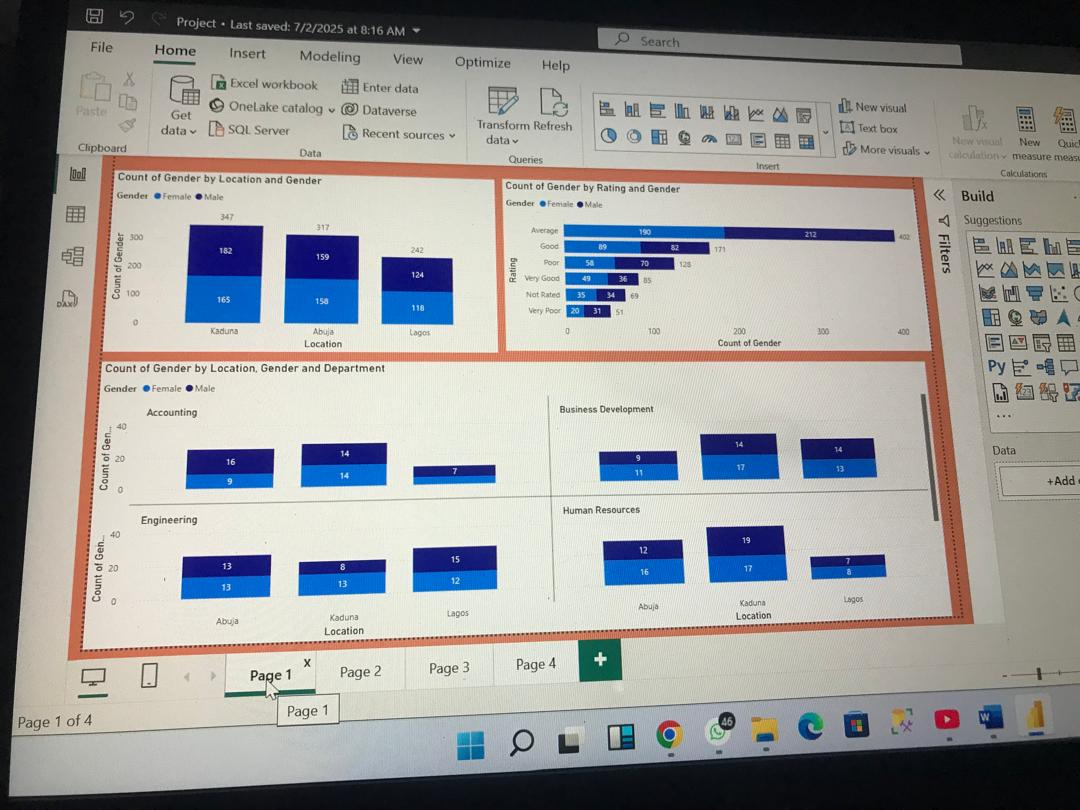

This screenshot's page, from the dashboard's own definition file:
{"tool":"powerbi","page":{"name":"Page 1","canvas":[1280,720],"ordinal":0},"visuals":[{"type":"columnChart","fields":{"Y":["CountNonNull(Palmoria Group emp-data.Gender)"],"Category":["Palmoria Group emp-data.Location"],"Series":["Palmoria Group emp-data.Gender"]},"box":[0,23.8,571.8,280],"z":1},{"type":"columnChart","fields":{"Y":["CountNonNull(Palmoria Group emp-data.Gender)"],"Category":["Palmoria Group emp-data.Location"],"Series":["Palmoria Group emp-data.Gender"],"Rows":["Palmoria Group emp-data.Department"]},"box":[0,319.7,1264.8,401.1],"z":2},{"type":"barChart","fields":{"Category":["Palmoria Group emp-data.Rating"],"Y":["CountNonNull(Palmoria Group emp-data.Gender)"],"Series":["Palmoria Group emp-data.Gender"]},"box":[584.8,22.1,695.2,278.6],"z":3}]}

Visuals, with their boxes on the page's 1280x720 design canvas (x1, y1, x2, y2). These are canvas units, not pixel positions in the 1080x810 screenshot, which may show the page scaled, cropped or inside an application window:
columnChart - CountNonNull(Palmoria Group emp-data.Gender) x Palmoria Group emp-data.Location: [0,24,572,304]
columnChart - CountNonNull(Palmoria Group emp-data.Gender) x Palmoria Group emp-data.Location: [0,320,1265,721]
barChart - Palmoria Group emp-data.Rating x CountNonNull(Palmoria Group emp-data.Gender): [585,22,1280,301]
